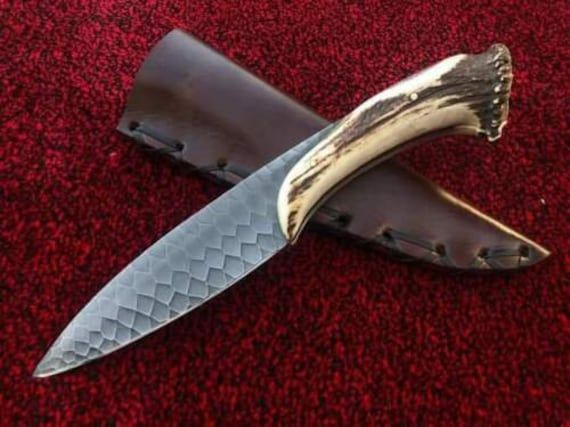knife: (26, 37, 521, 391)
